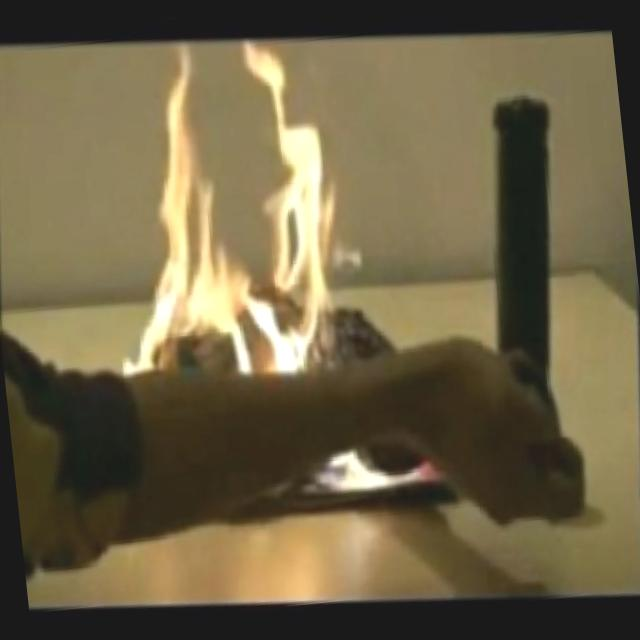fire: (120, 26, 391, 418)
